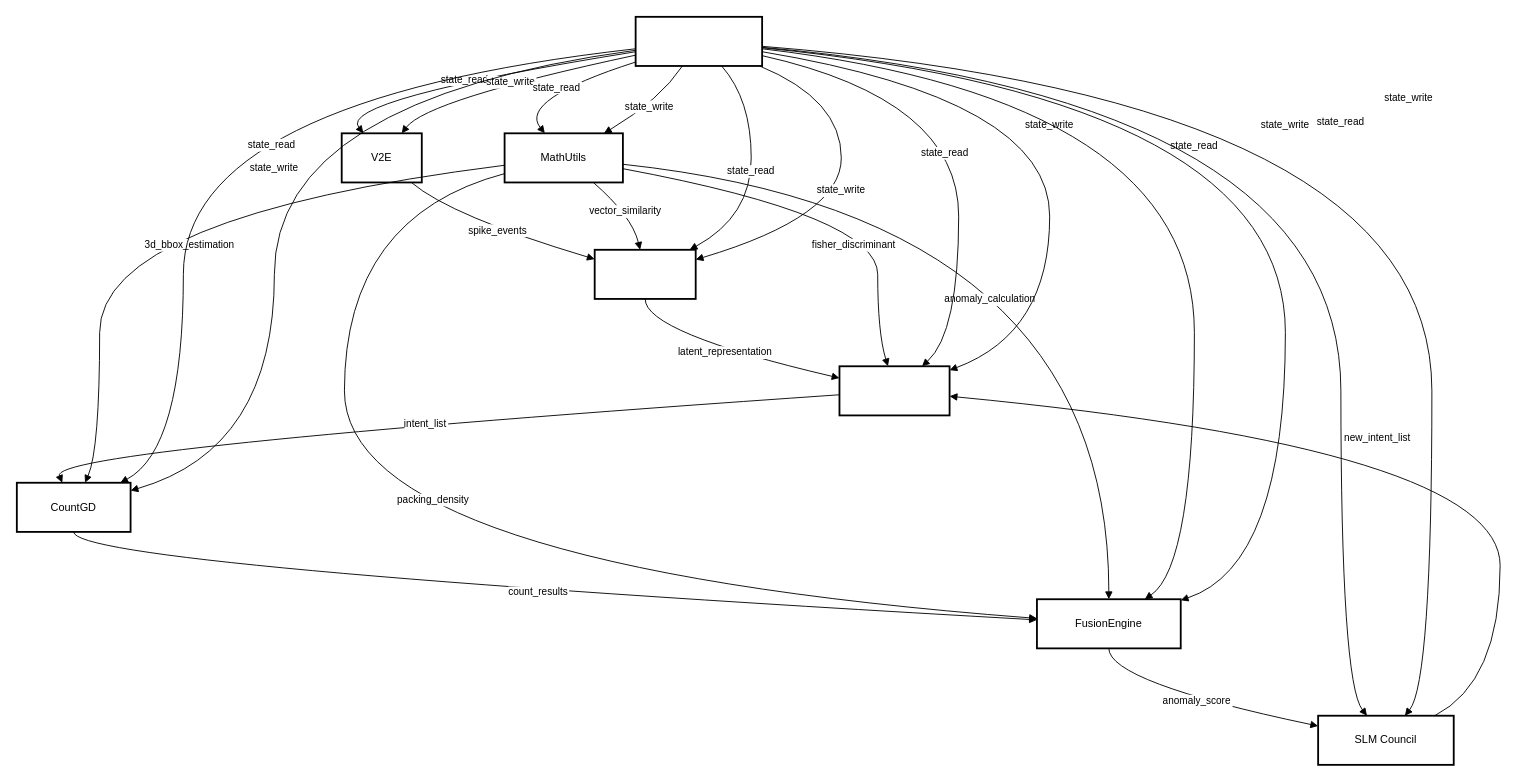
Image size: 1516x781. Some labels were removed from this diagram. Here are the shapes that lost their labels. From the top down, the centre of each, then its label:
At point 698,40: "LangGraph".
At point 644,273: "V-JEPA".
At point 894,390: "VL-JEPA".
